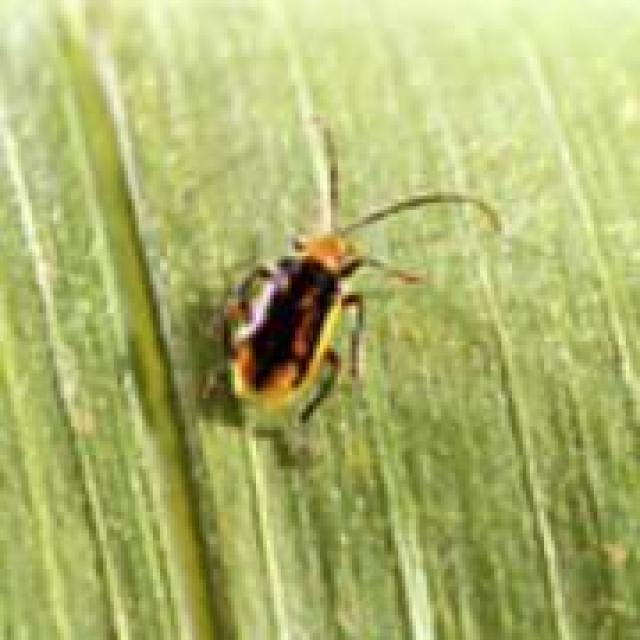trips: (211, 114, 442, 456)
